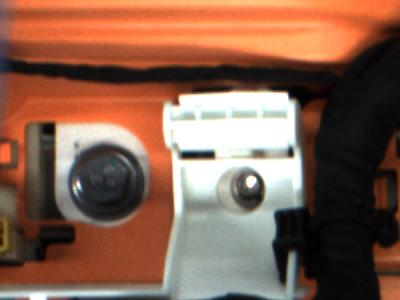nut_b: (66, 141, 152, 222)
